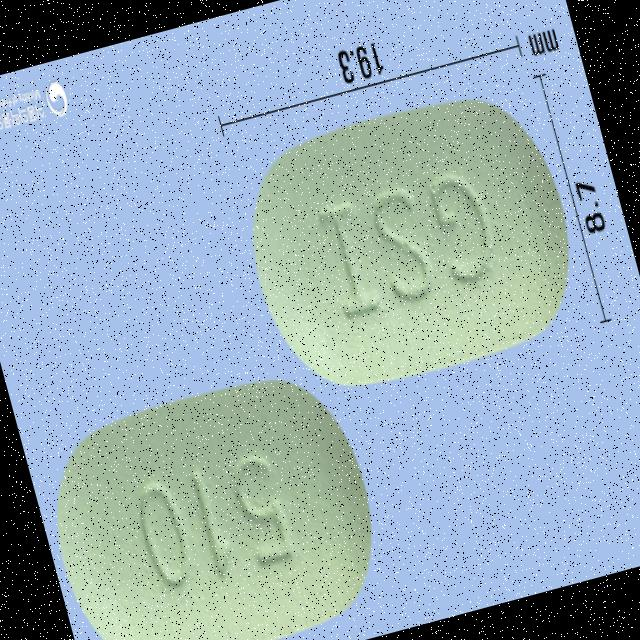Genvoya: (224, 73, 596, 410), (29, 359, 398, 640)
